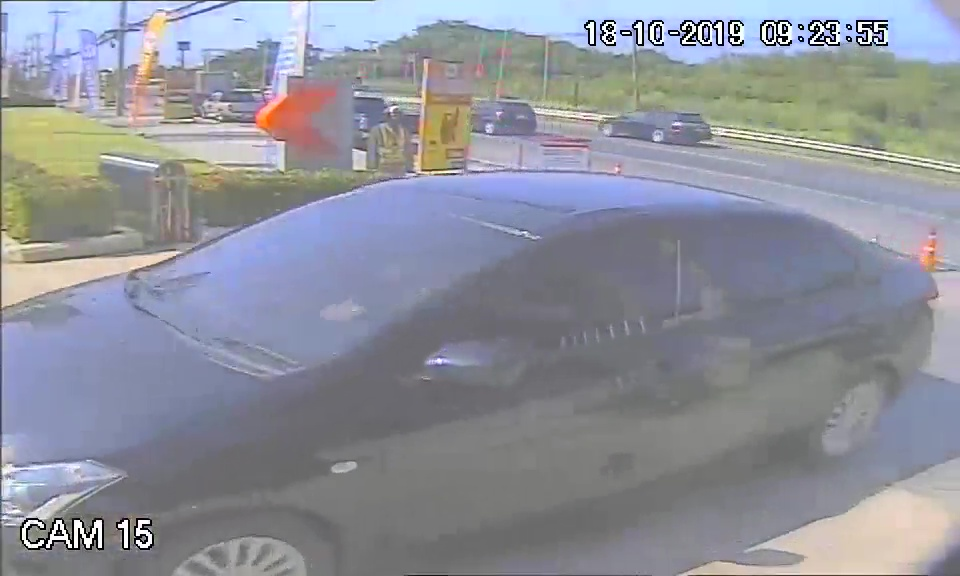sedan: (13, 171, 937, 512)
